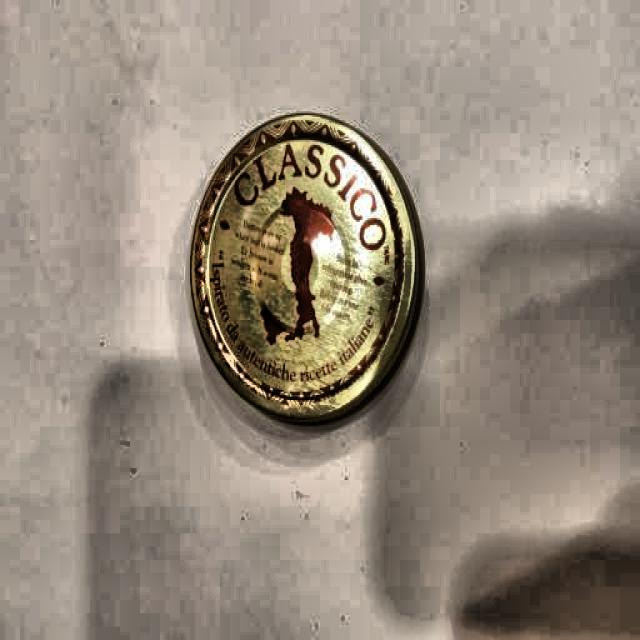metal: (185, 111, 428, 426)
